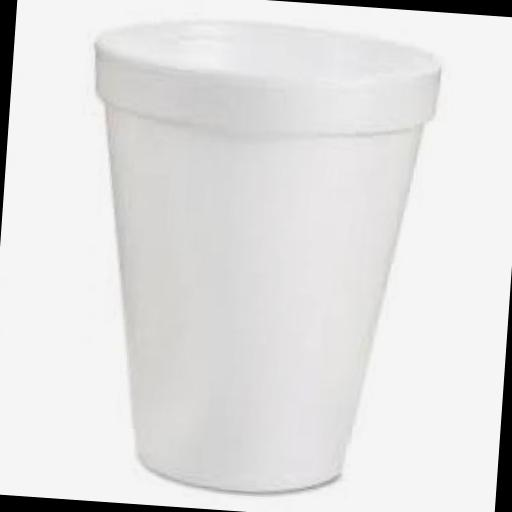paper: (64, 13, 439, 500)
